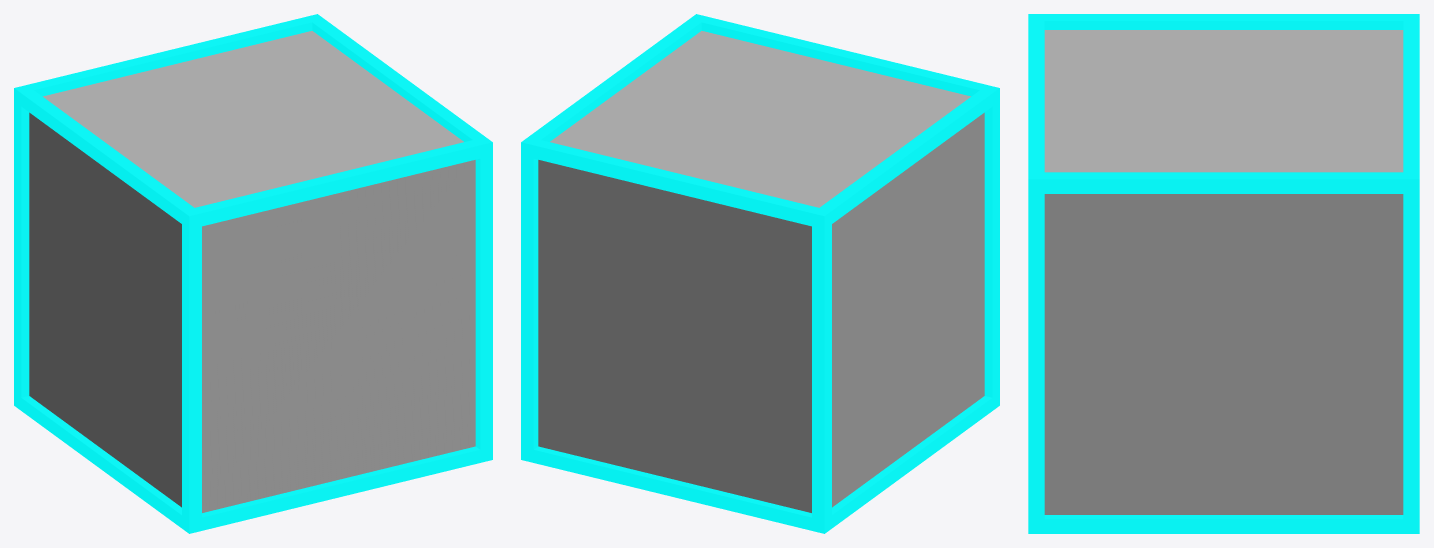
Rendered from SFI0410005.fbx.
The picture shows the model from 3 angles, left to right: view 1: azimuth 30°, elevation 25°; view 2: azimuth 150°, elevation 25°; view 3: azimuth 270°, elevation 25°; orthographic projection. The views are drawn at different scales.
Parts seen in each view (by area): view 1: smSFI0410005; view 2: smSFI0410005; view 3: smSFI0410005.
Part boxes in pixels (left/top/right/bottom): smSFI0410005: left=14, top=14, right=492, bottom=533; smSFI0410005: left=521, top=14, right=999, bottom=533; smSFI0410005: left=1028, top=14, right=1419, bottom=533.
Size of the model in its own units: 100 by 100 by 100.
